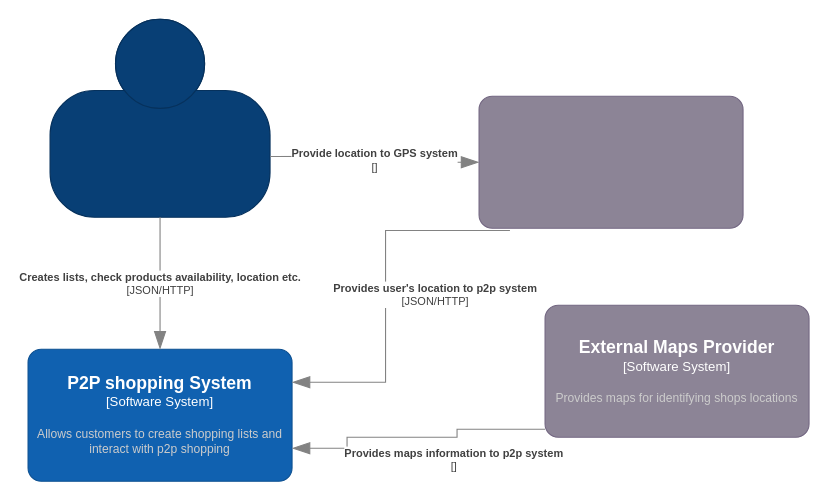
This 828x501 diagram has some shape labels left out. Each missing label, with the centre of its shape:
"Customer of p2p shopping [Person] Final Customer" goes at [159,117].
"GPS localisation [Software System] Allows mobile localisation" goes at [610,161].
